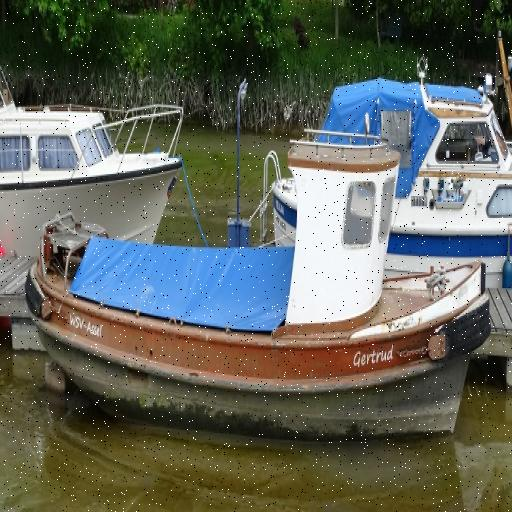tugboat: (21, 108, 496, 457)
